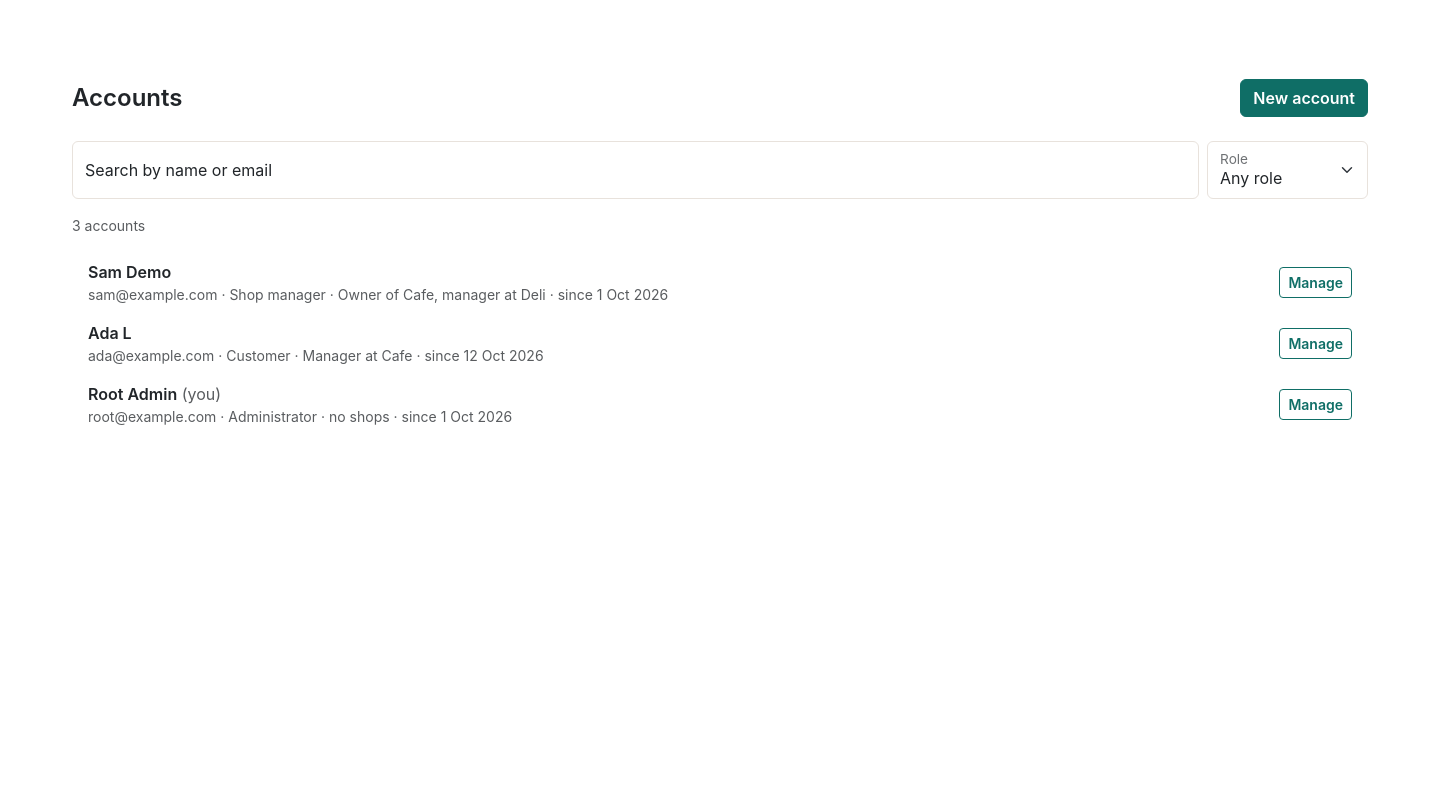
Test: an account's dialog › shows the account and saves the role as picked
The image size is (1440, 810).
Step 1. Click the button with aria-label "Manage Ada L" → (1316, 344), box [1279,328,1352,359]
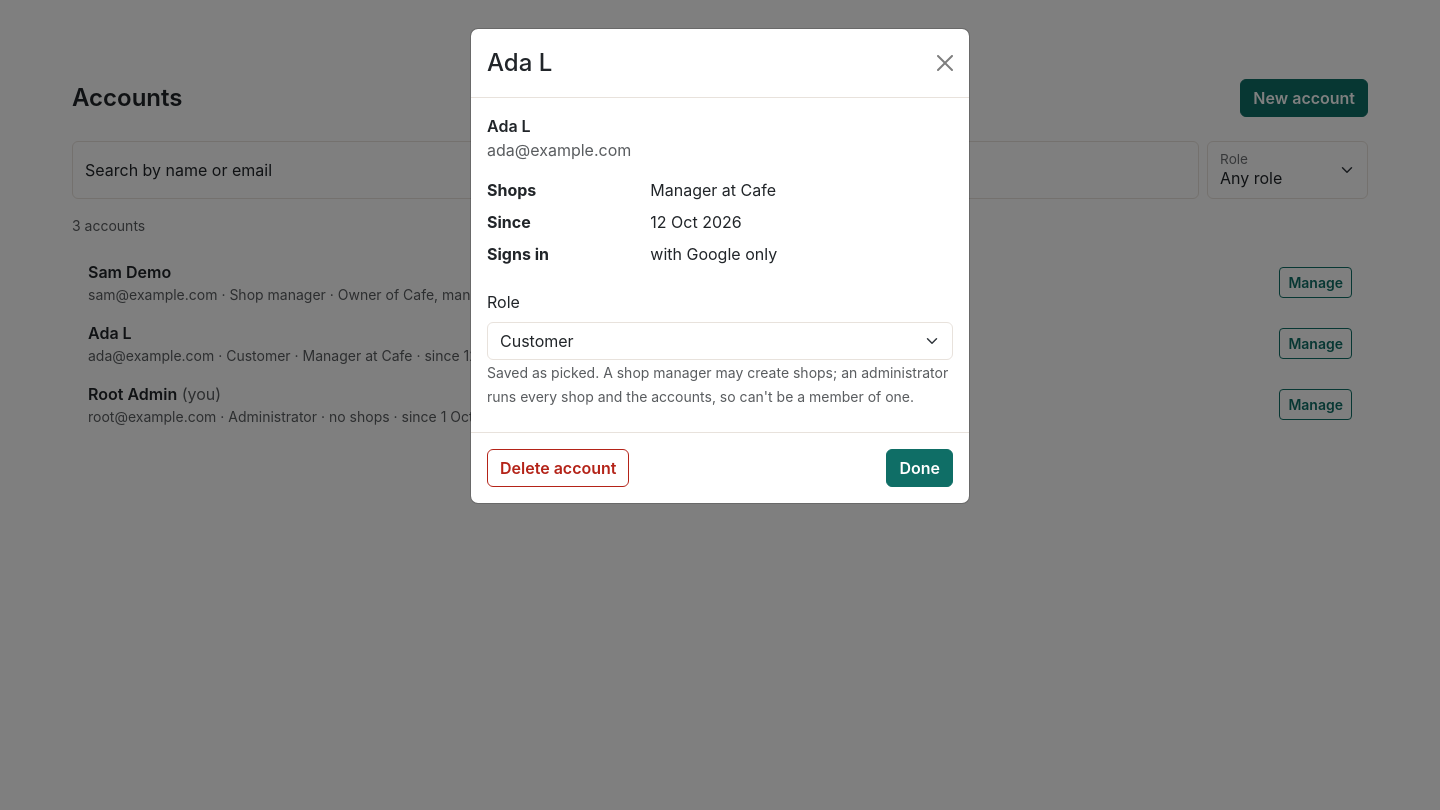
expect the text with class "modal-title" reads "Ada L": met, box [487,48,552,77]
expect the text "Manager at Cafe" is shown: met, box [650,180,776,200]
expect the text "with Google only" is shown: met, box [650,244,777,264]
Step 2. Select "Shop manager" in the dropdown labelled "Role" → (720, 341), box [487,322,953,360]
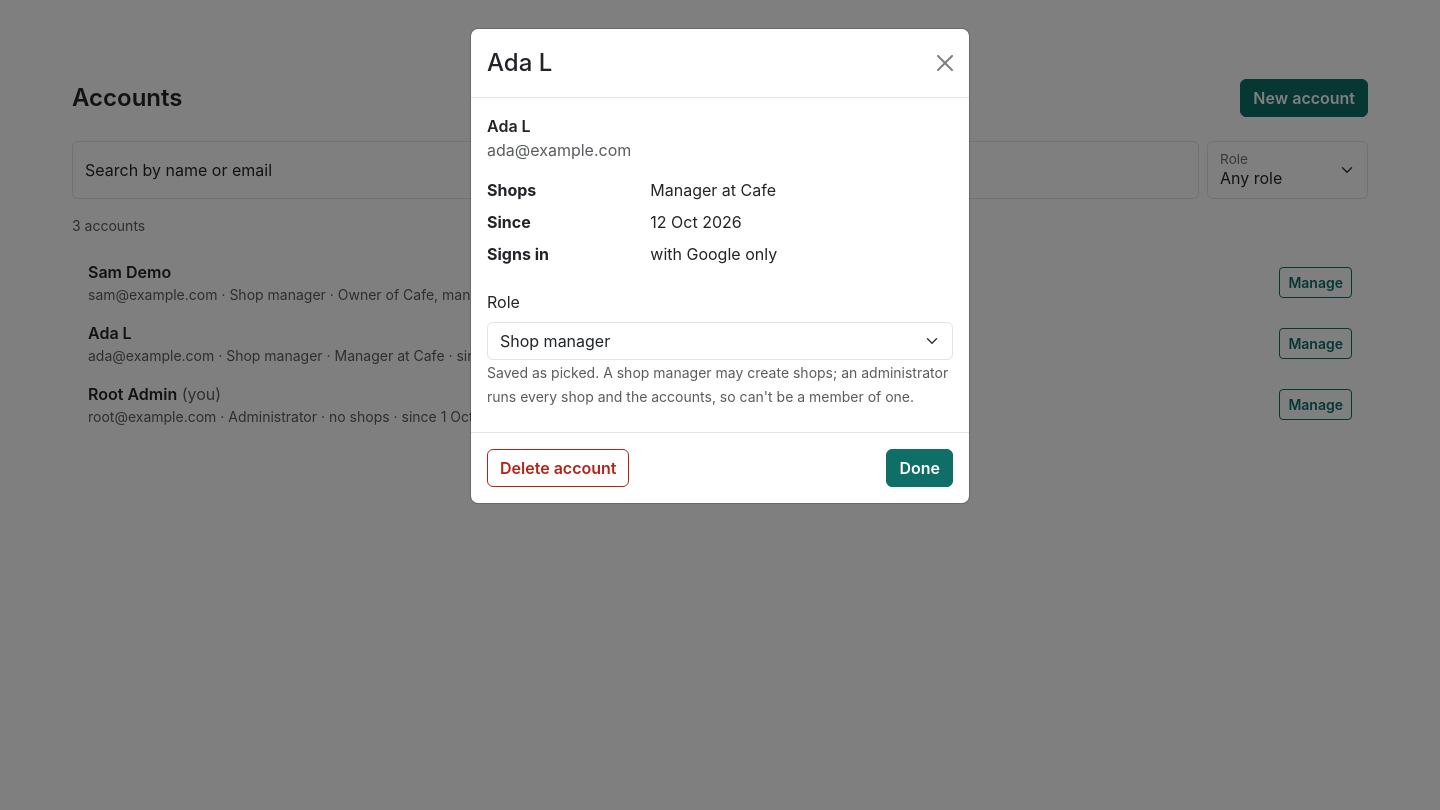
Step 3. Click the button "Done" → (920, 468), box [886,449,953,487]
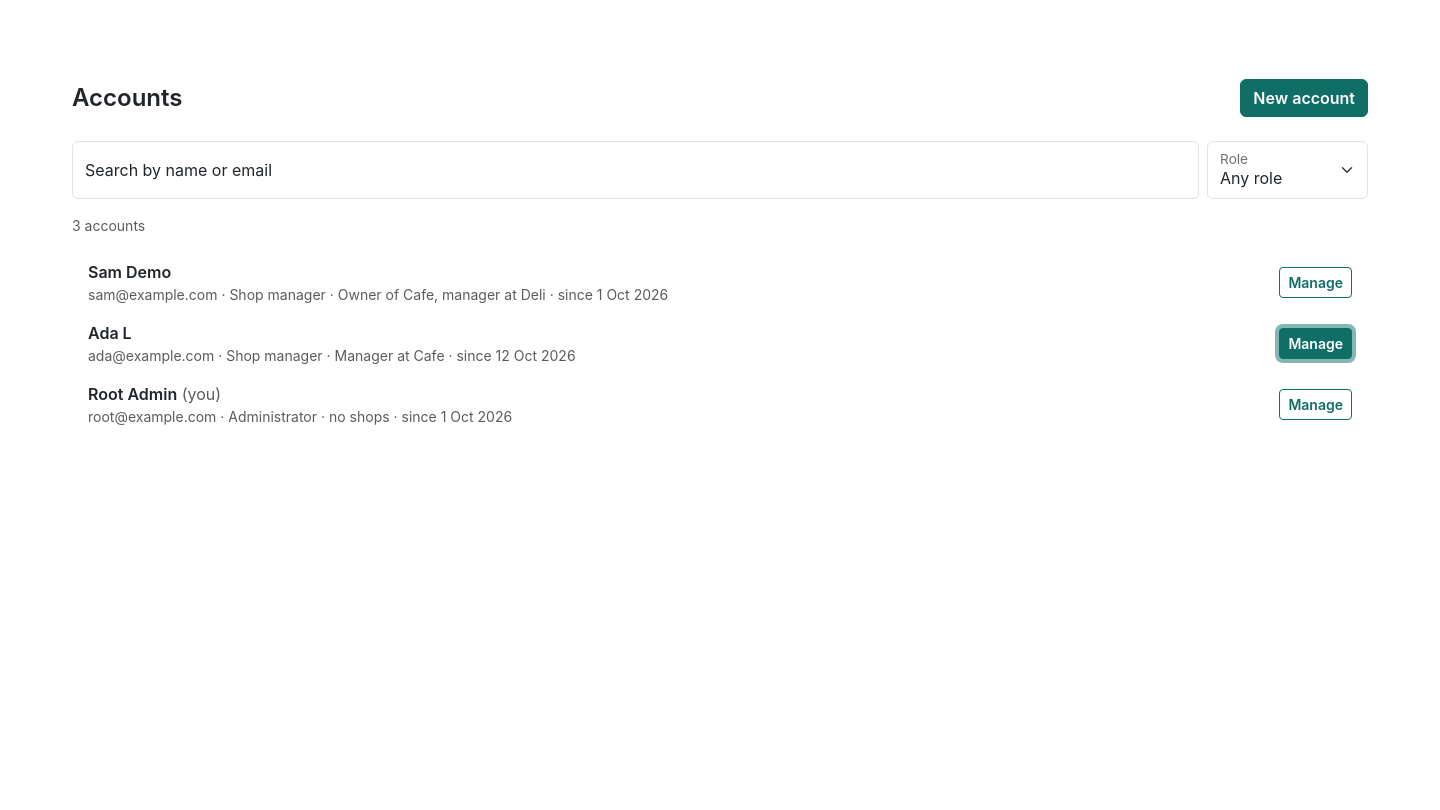
expect the list item that starts with "Ada L" shows "Shop manager": met, box [226,347,323,364]
expect the dialog is gone: met
